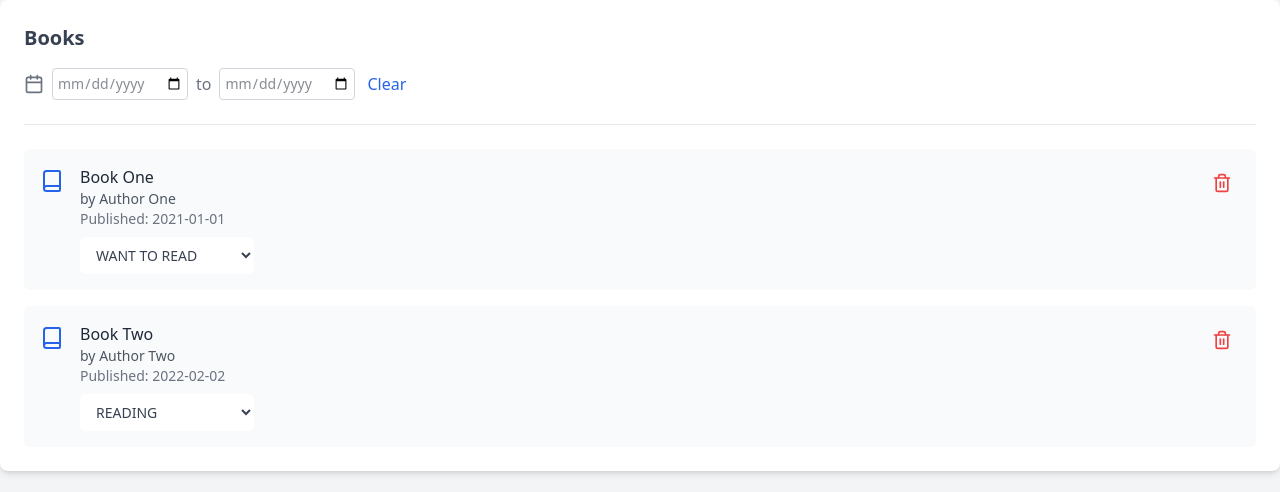
Test: BooksList › should filter books by date range
This screenshot has width=1280, height=492.
Type "2021-01-01" into the date field with test id "startDate" at (120, 84), box left=52, top=68, right=188, bottom=100
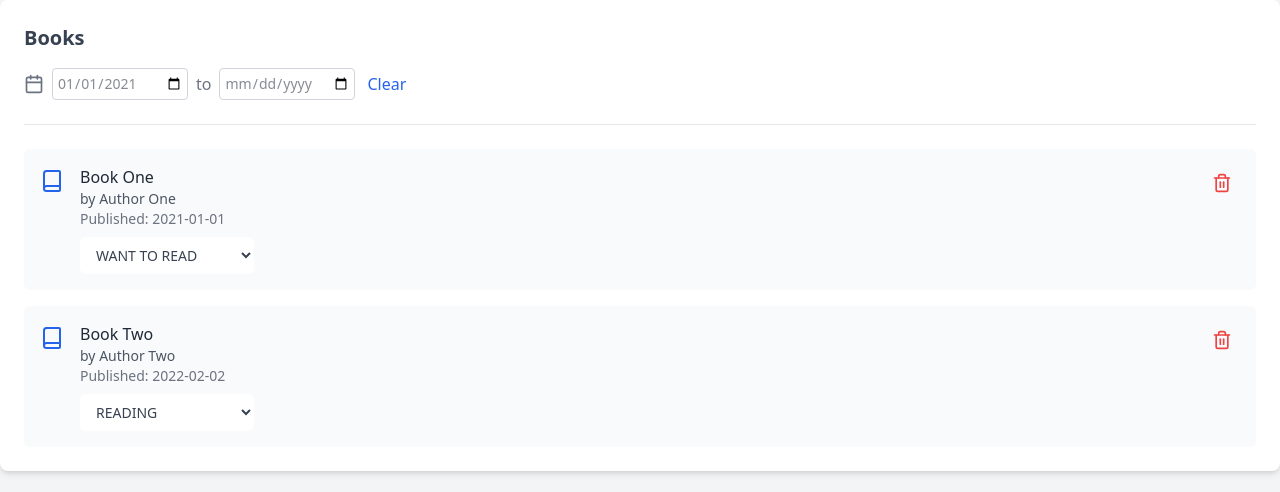
Type "2021-12-31" into the date field with test id "endDate" at (288, 84), box left=220, top=68, right=356, bottom=100
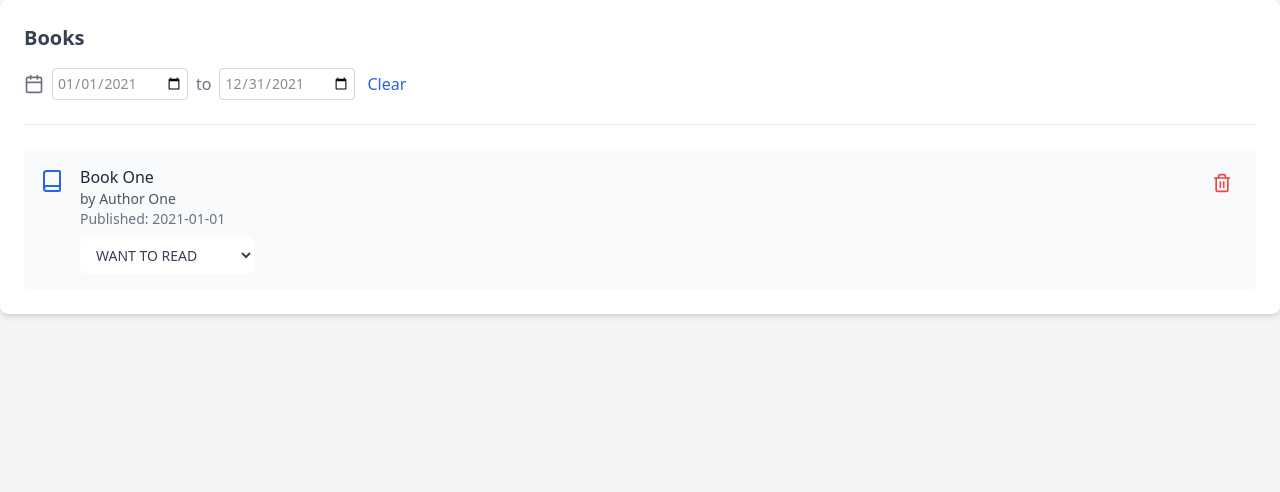
Check: the heading "Book One" is shown, box left=80, top=166, right=154, bottom=188
Check: the heading "Book Two" is gone
